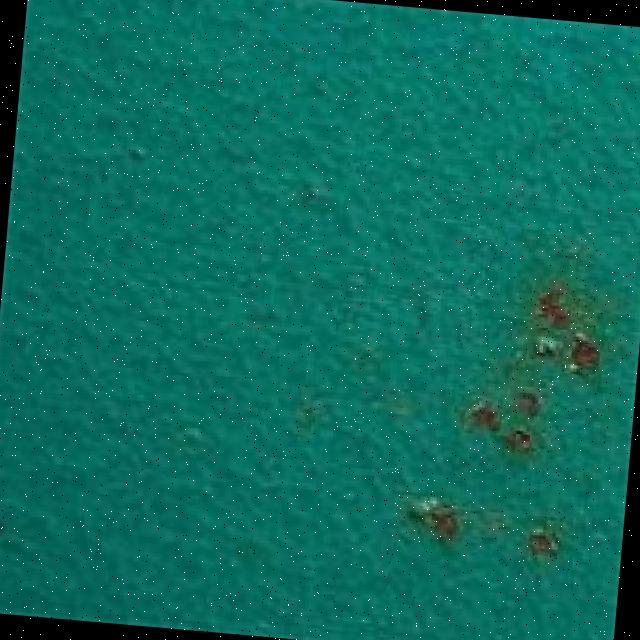Corrosion: (401, 268, 608, 563), (405, 494, 460, 540), (533, 282, 572, 328), (463, 398, 501, 432), (569, 338, 599, 369), (526, 526, 556, 556), (514, 389, 542, 416), (504, 427, 532, 452)
